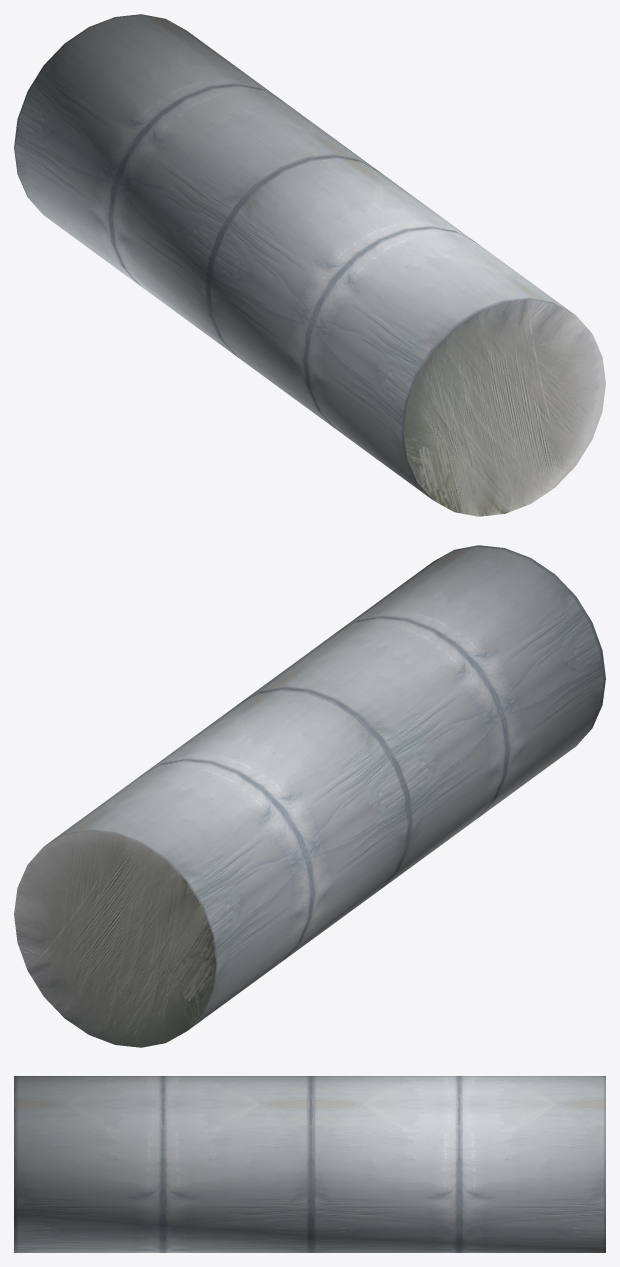
Rendered from hay-bale-plastic-1x4-cbj_LOD00.gltf.
The picture shows the model from 3 angles, top to bottom: view 1: azimuth 30°, elevation 25°; view 2: azimuth 150°, elevation 25°; view 3: azimuth 270°, elevation 25°; orthographic projection. The views are drawn at different scales.
Visible parts, largest first — view 1: Cube; view 2: Cube; view 3: Cube.
Boxes of the visible parts, box(x1,y1,x2,y2) form: Cube: box(14, 14, 605, 516); Cube: box(14, 545, 605, 1047); Cube: box(14, 1076, 605, 1252).
Bounding box in the file's own units: 1.8 × 1.8 × 6.
